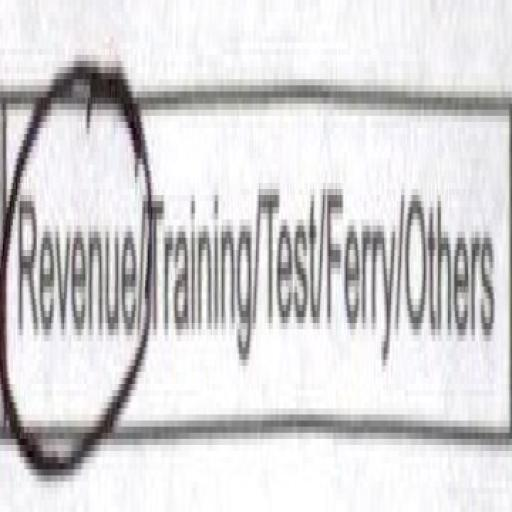check: (0, 0, 152, 508)
